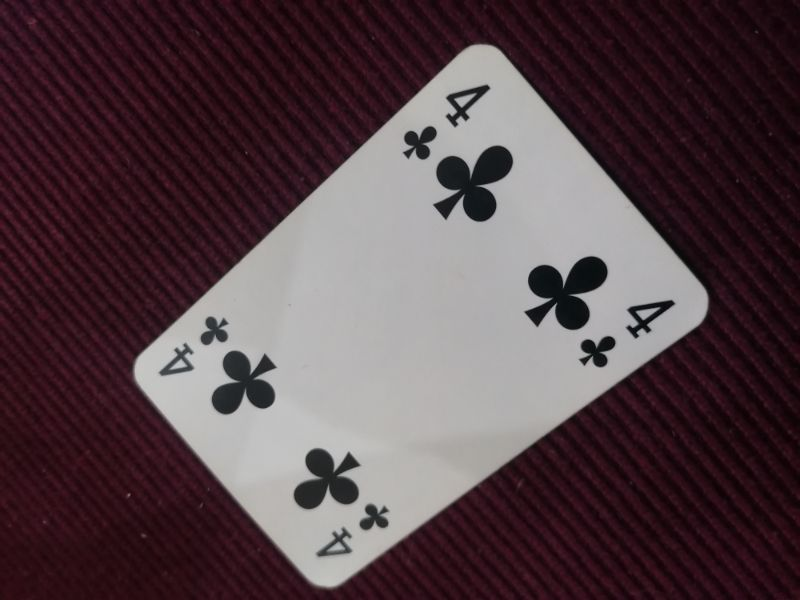4c: (396, 81, 493, 163), (576, 298, 675, 371), (156, 314, 233, 379), (311, 500, 391, 559)
